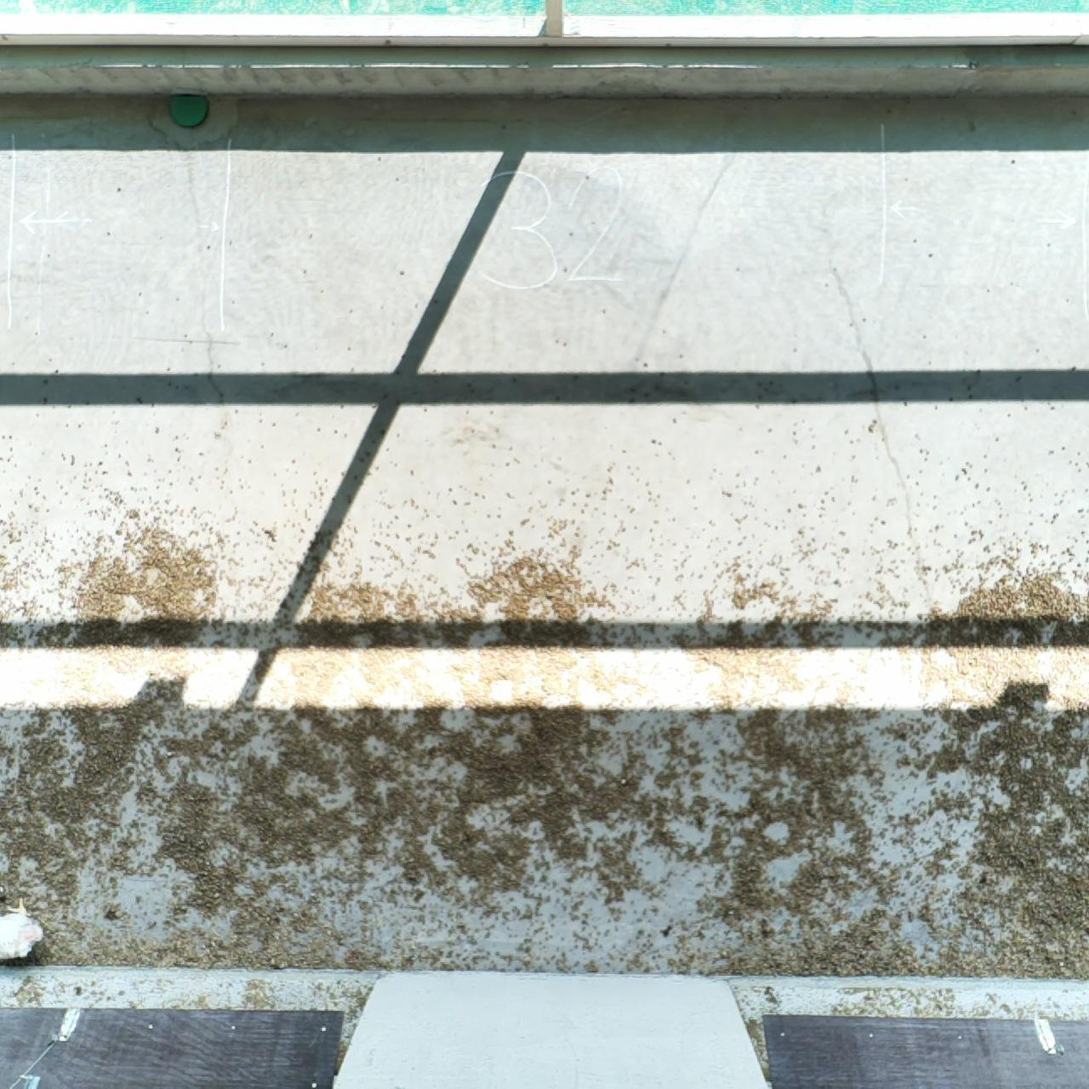chicken: (0, 898, 48, 964)
